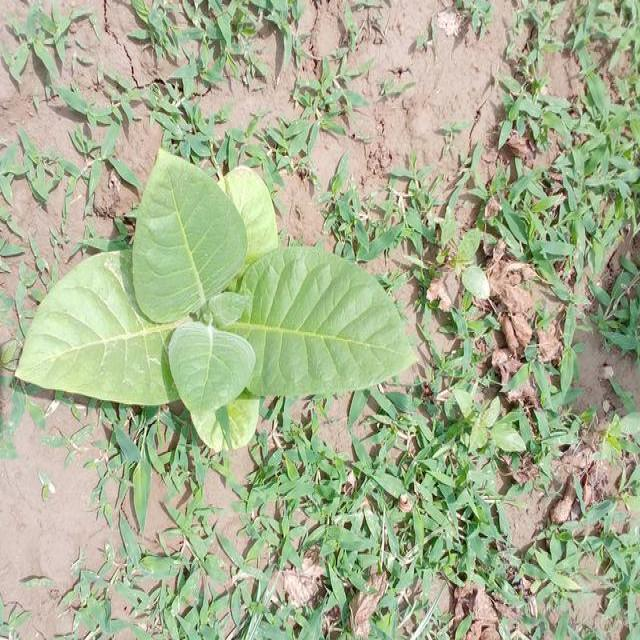crop: (18, 175, 439, 501)
